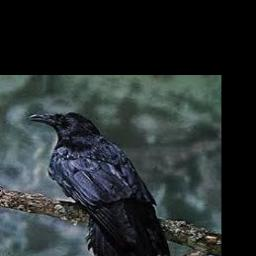Crow: (29, 111, 171, 256)
